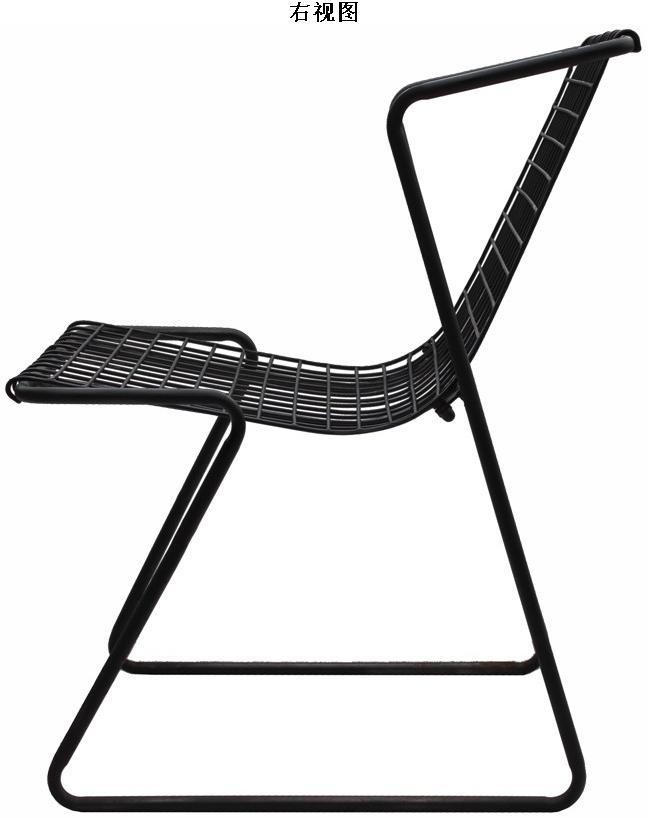obstacle: (2, 51, 645, 817)
